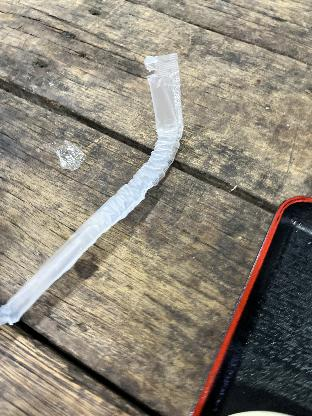Others: (3, 53, 184, 324)
